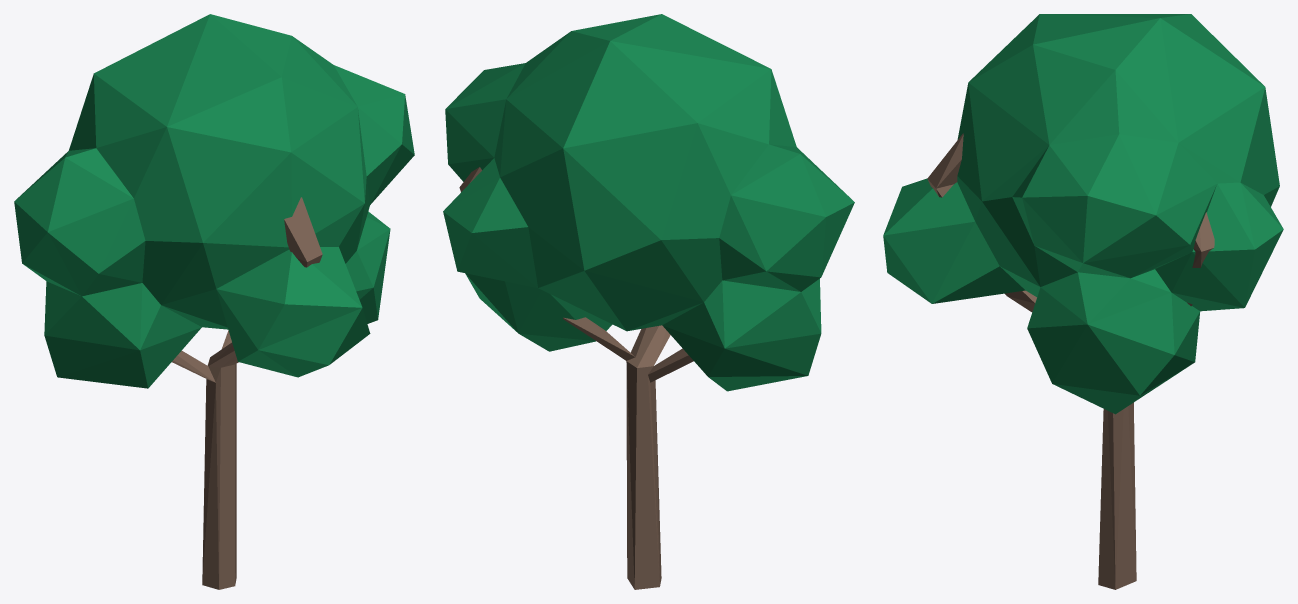
File: tree3.fbx
3 views of the same model, side by side, from view 1: azimuth 30°, elevation 25°; view 2: azimuth 150°, elevation 25°; view 3: azimuth 270°, elevation 25° (orthographic). The views are drawn at different scales.
Visible parts, largest first — view 1: treetype3; view 2: treetype3; view 3: treetype3.
Boxes of the visible parts, left/top/right/bottom form: treetype3: left=14, top=14, right=414, bottom=589; treetype3: left=443, top=14, right=854, bottom=589; treetype3: left=883, top=14, right=1283, bottom=589.
Size of the model in its own units: 145 by 204 by 130.
